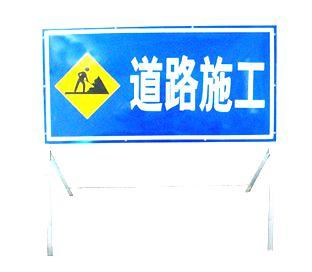sign: (42, 29, 278, 142)
